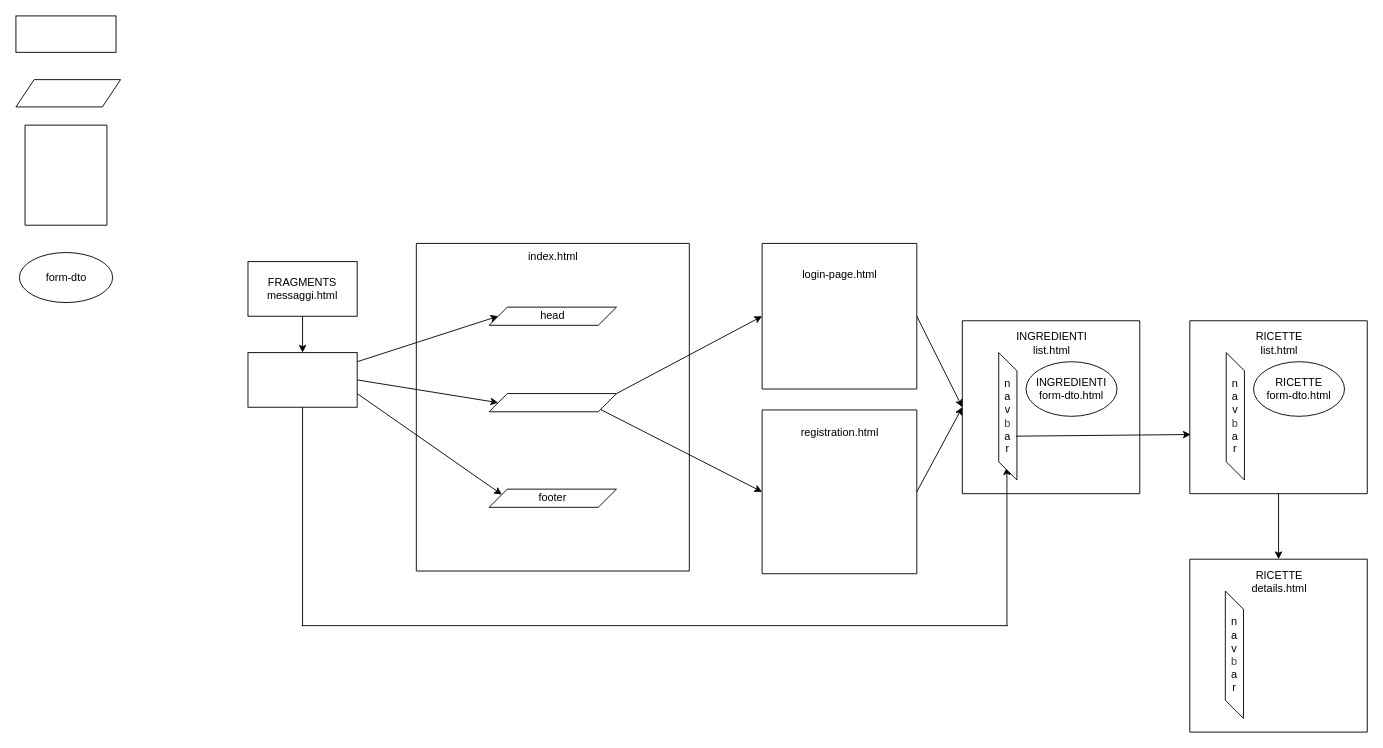
Image size: 1383x748. Some labels were removed from this diagram. The centre of each missing label's shape, as x and y in pixels:
"FRAGMENTS layout.html" goes at point (302, 379).
"FRAMMENTI" goes at point (65, 33).
"FRAZIONI frammenti" goes at point (68, 93).
"navbar" goes at point (552, 402).
"Pagine" goes at point (65, 174).
